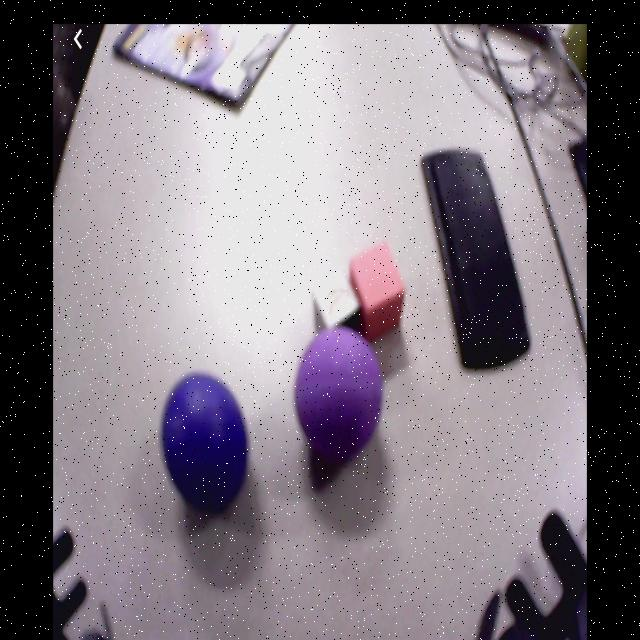ball: (161, 376, 251, 508), (296, 329, 382, 451)
